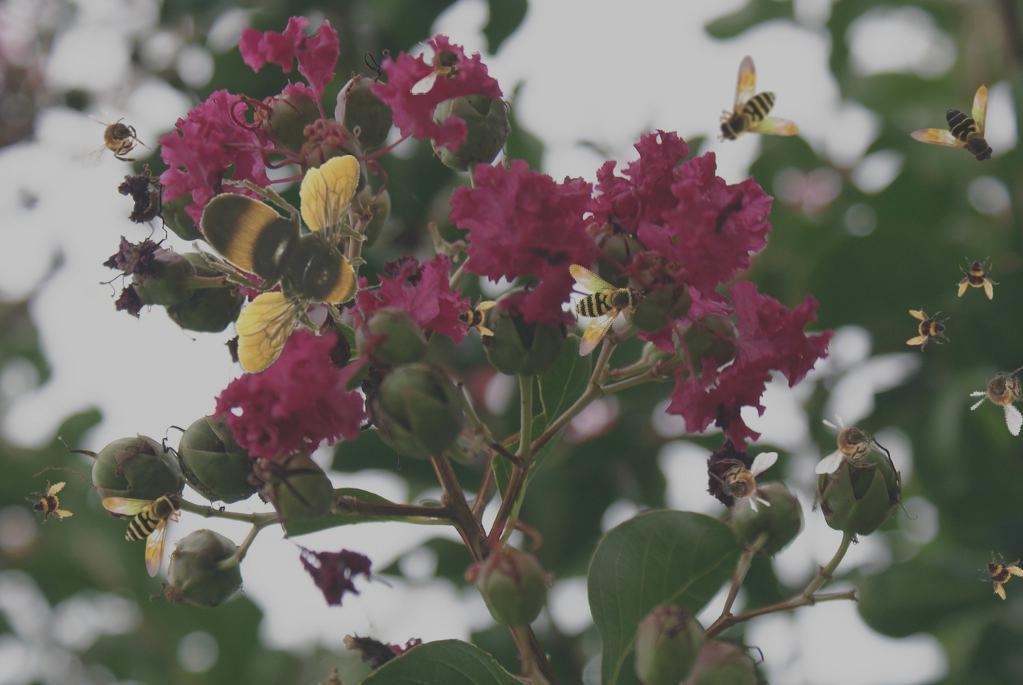Bee: (192, 155, 383, 375), (535, 255, 649, 371), (908, 84, 996, 166), (102, 490, 184, 578), (717, 55, 799, 143), (961, 349, 1023, 437), (708, 452, 778, 513), (81, 108, 151, 169), (815, 413, 885, 474), (410, 34, 480, 95), (971, 542, 1023, 604), (21, 474, 77, 530), (956, 256, 1000, 300), (906, 308, 950, 352), (453, 294, 497, 338)
